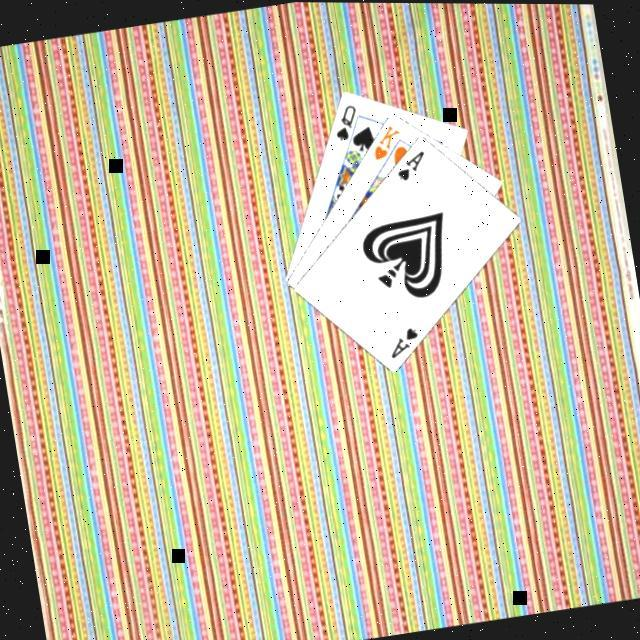AS: (392, 147, 433, 186), (386, 324, 426, 363)
KH: (368, 122, 408, 164)
QS: (330, 101, 366, 146)
